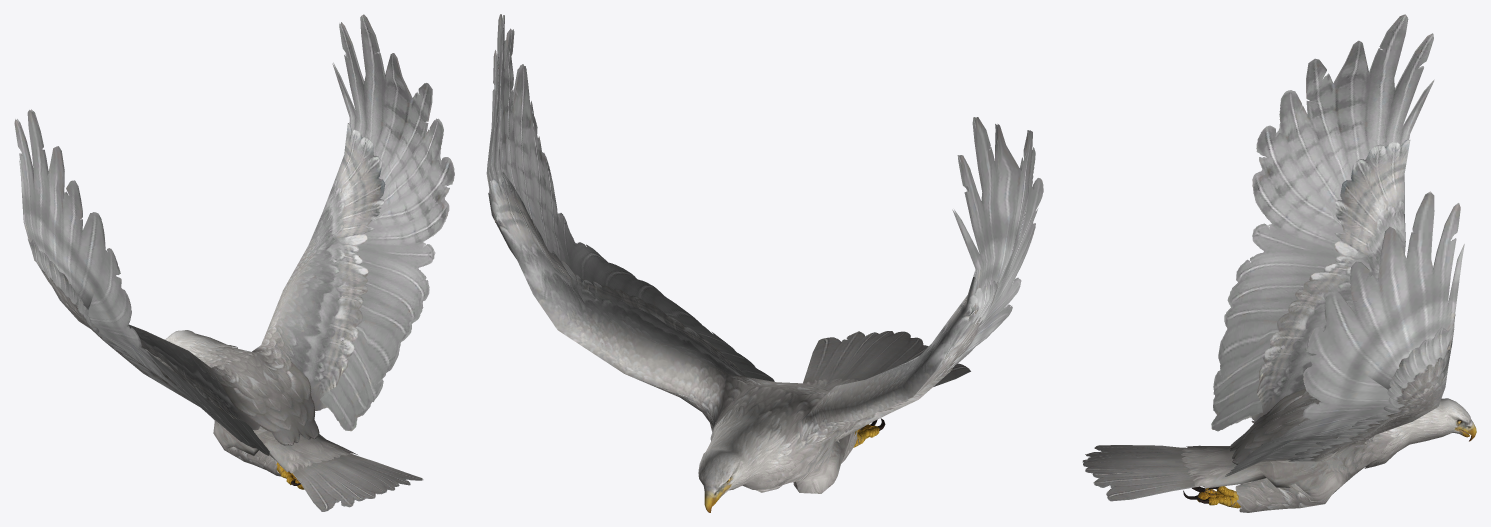
Rendered from Eagle.glb.
3 renders of one model, left to right at view 1: azimuth 30°, elevation 25°; view 2: azimuth 150°, elevation 25°; view 3: azimuth 270°, elevation 25°, orthographic. The views are drawn at different scales.
Parts seen in each view (by area): view 1: White_Eagle.001; view 2: White_Eagle.001; view 3: White_Eagle.001.
Boxes of the visible parts, x1=… form: White_Eagle.001: x1=14, y1=14, x2=454, y2=511; White_Eagle.001: x1=486, y1=14, x2=1043, y2=512; White_Eagle.001: x1=1082, y1=14, x2=1476, y2=512.
Size of the model in its own units: 1.01 by 0.9241 by 0.8568.
1 material, 1 textured.
